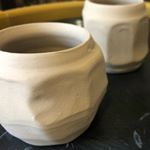cups: (1, 20, 110, 148)
